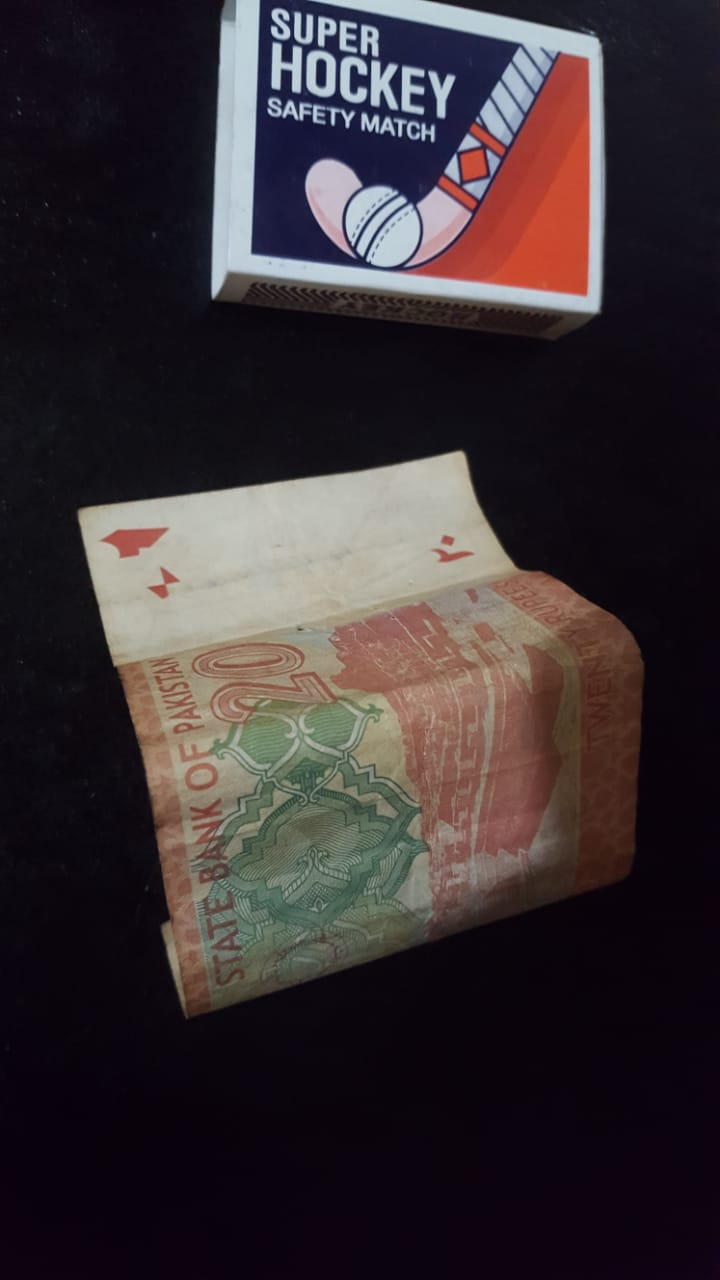20 rupee: (71, 441, 665, 1035)
